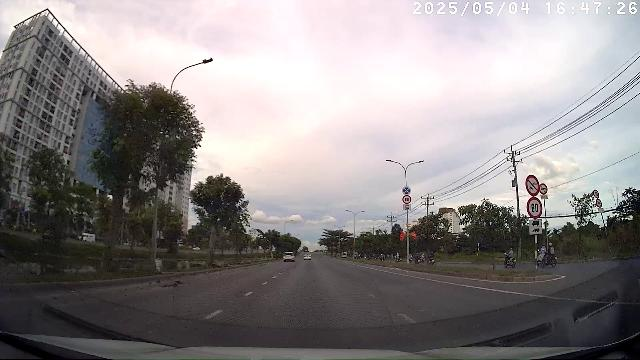127-toc-do-toi-da-50: (593, 190, 599, 198)
127-toc-do-toi-da-60: (527, 197, 543, 218)
127-toc-do-toi-da-80: (402, 196, 412, 204)
